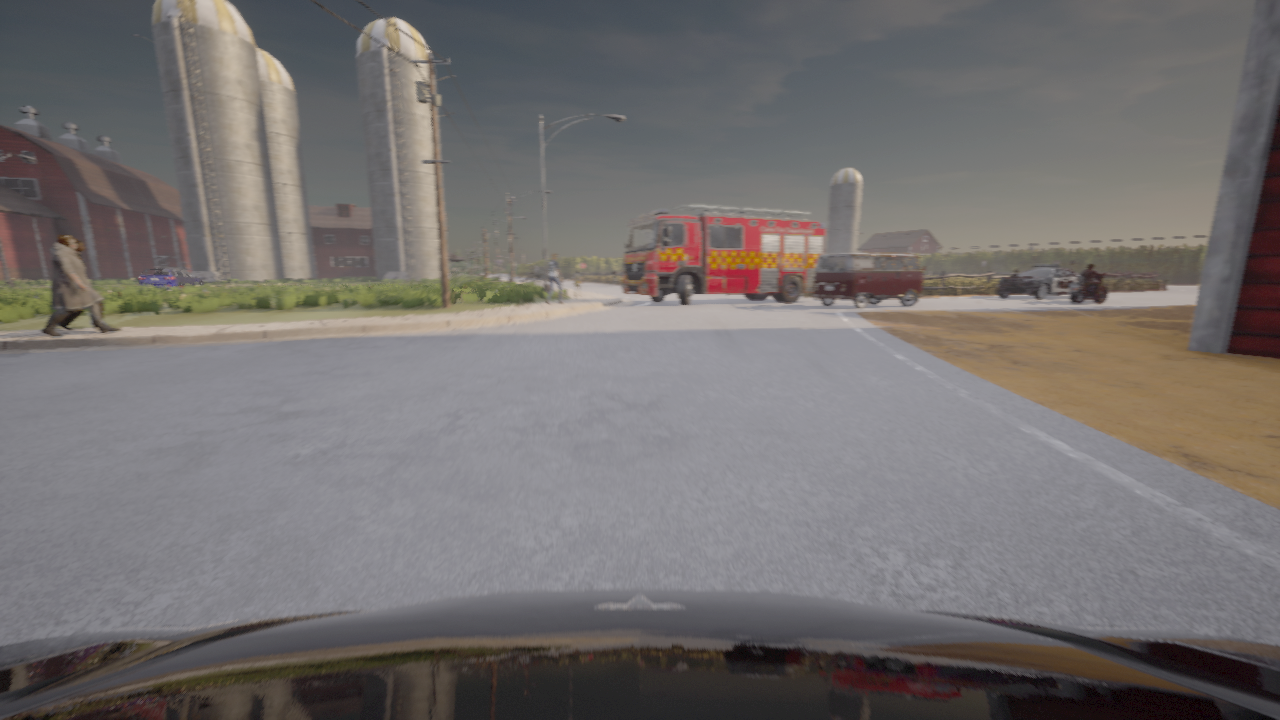cyclist: (0, 588, 1279, 719), (622, 203, 825, 305), (812, 252, 925, 308), (997, 264, 1082, 298), (138, 268, 203, 289), (1070, 272, 1107, 302), (534, 266, 548, 282), (525, 276, 538, 281), (614, 277, 616, 283)
pedestrian: (40, 235, 120, 336), (57, 238, 111, 330), (545, 252, 564, 304), (573, 270, 581, 297)
